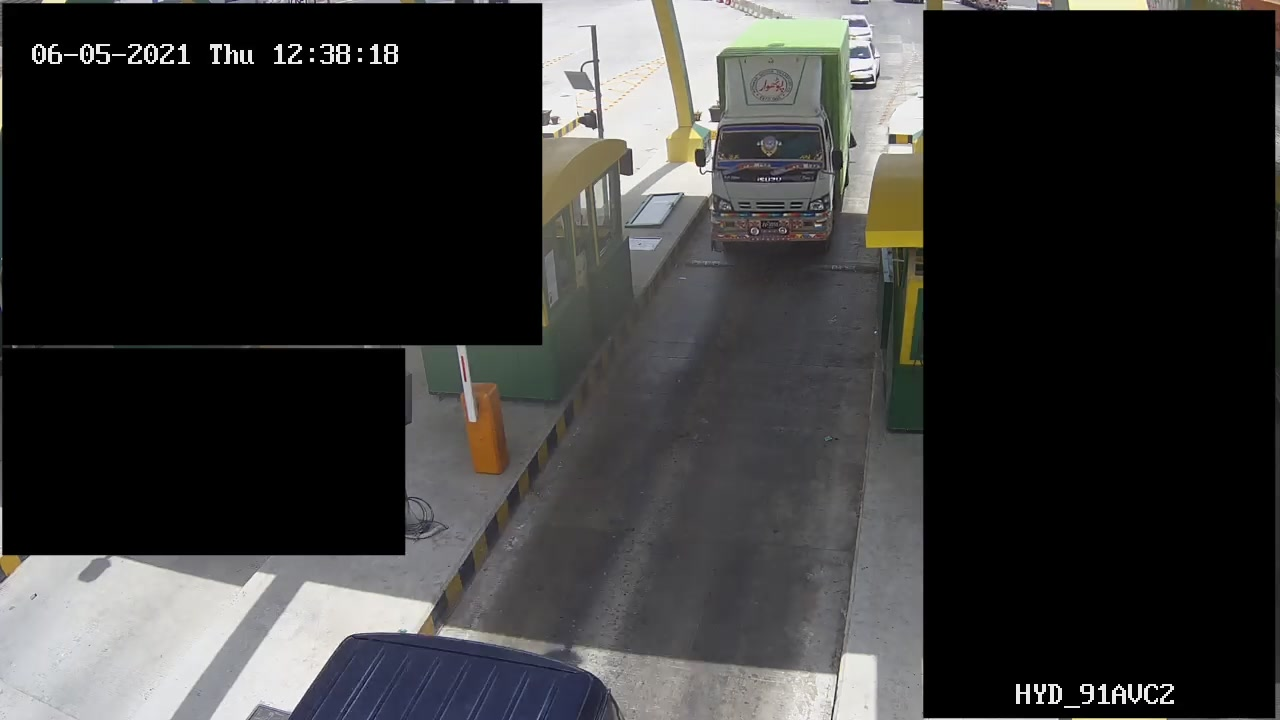F3: (694, 14, 859, 249)
